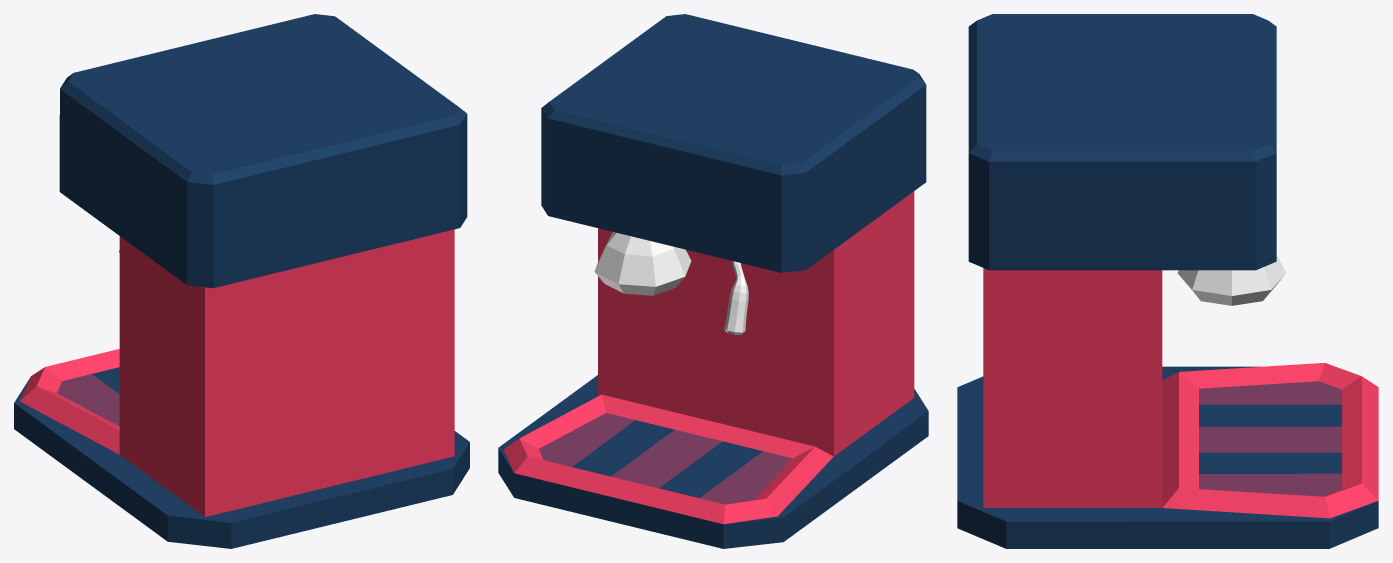
Rendered from CoffeeMachine.fbx.
The picture shows the model from 3 angles, left to right: view 1: azimuth 30°, elevation 25°; view 2: azimuth 150°, elevation 25°; view 3: azimuth 270°, elevation 25°; orthographic projection. The views are drawn at different scales.
Parts seen in each view (by area): view 1: Machine; view 2: Machine, Milk_001, Milk; view 3: Machine, Milk_001.
Part boxes in pixels (bbox=[...]): Machine: bbox=[14, 14, 469, 548]; Machine: bbox=[498, 14, 928, 548]; Milk_001: bbox=[594, 232, 691, 295]; Milk: bbox=[724, 261, 748, 334]; Machine: bbox=[957, 14, 1378, 548]; Milk_001: bbox=[1177, 255, 1285, 305].
Bounding box in the file's own units: 61.86 × 72.43 × 71.03.
